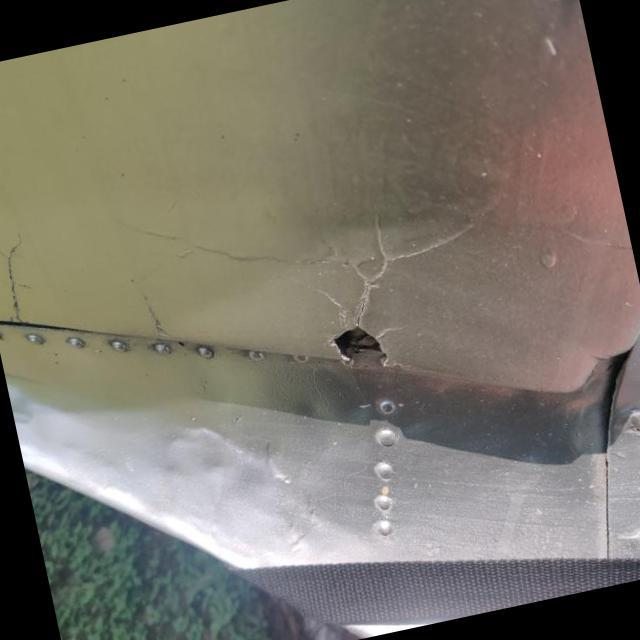Rupture: (285, 184, 522, 400)
